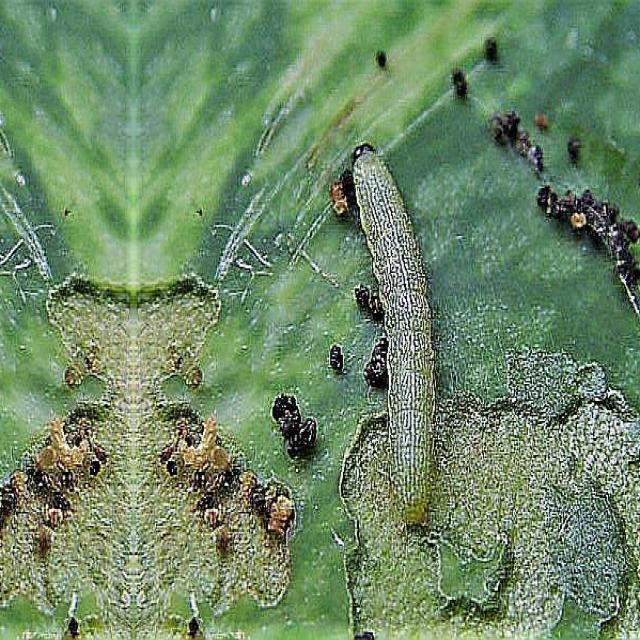Armyworm: (323, 121, 479, 525)
